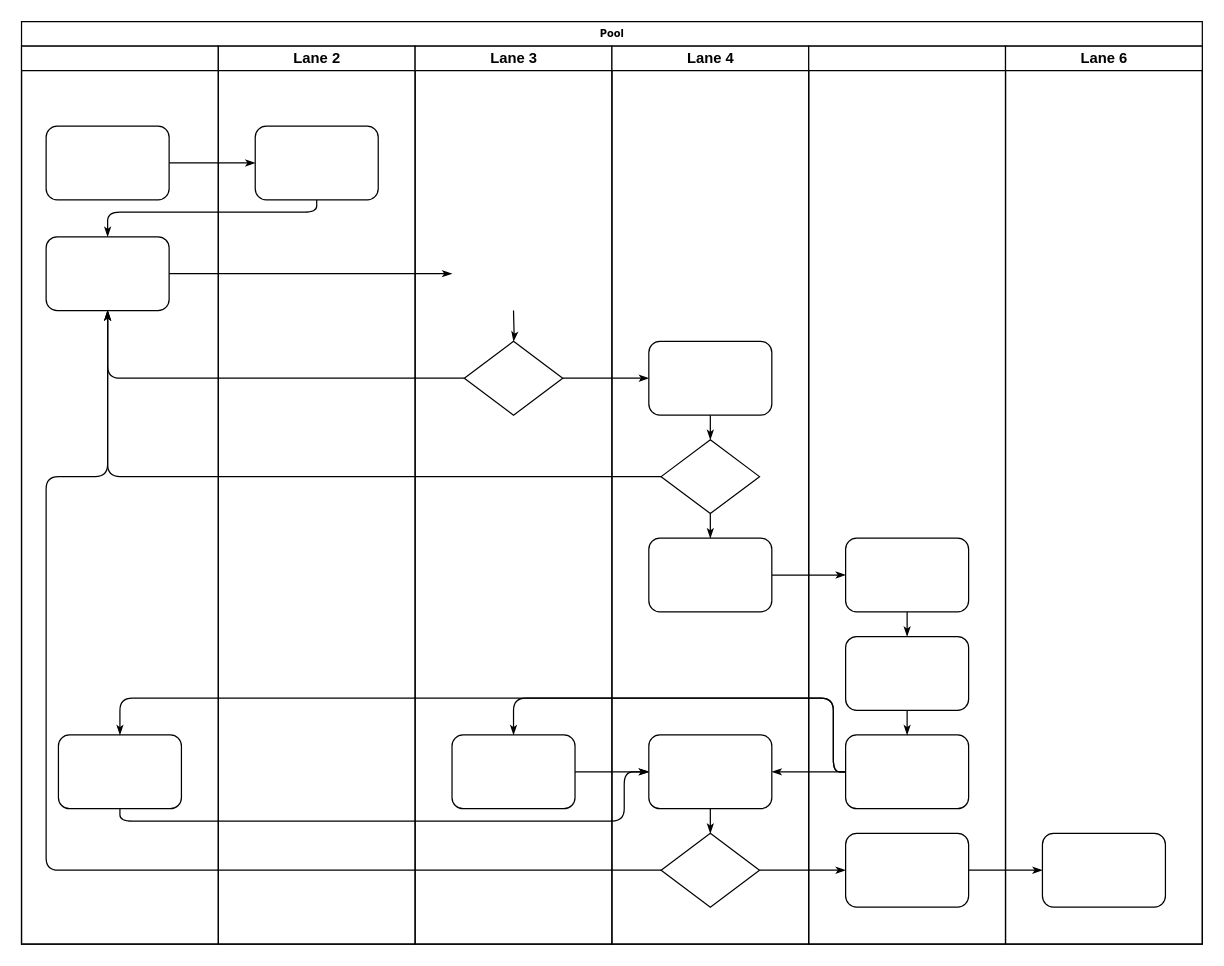
The diagram is 1224 pixels wide and 966 high, and some of its shapes have lost their labels. The box of each missing label's shape, as (x1, y1, x2, y2) in pixels:
Lane 1: (20, 45, 218, 944)
Lane 5: (807, 45, 1006, 944)
